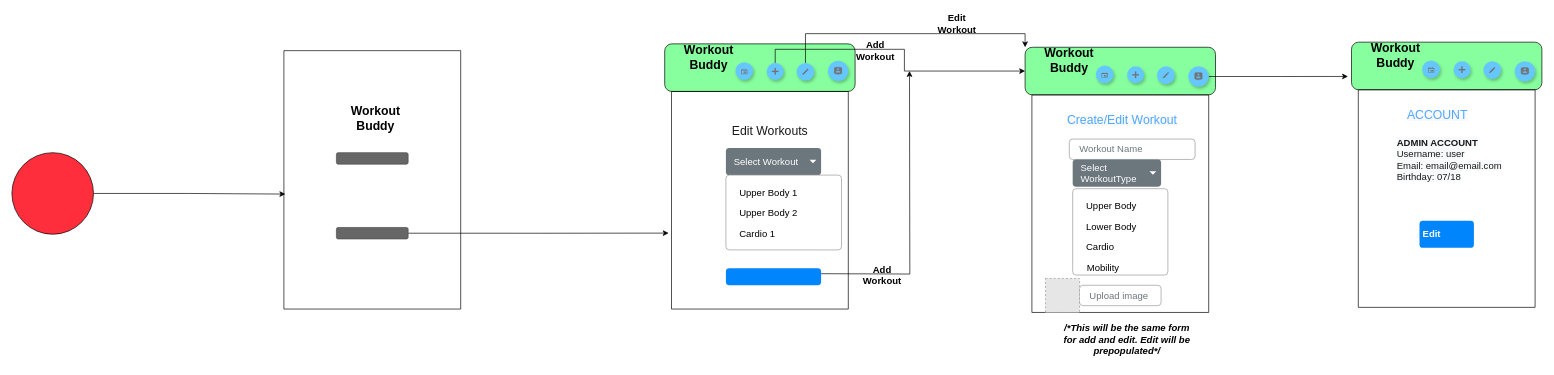
Some shapes in this 1554 by 375 pixel diagram are drawn without their labels. Grey dashed boxes stand in for pictures. Here are the shapes that lost their labels. From the top down, the centre of each, then its label:
(372,158): Login
(52,193): START HERE
(372,233): Register
(773,276): Add New Workout
